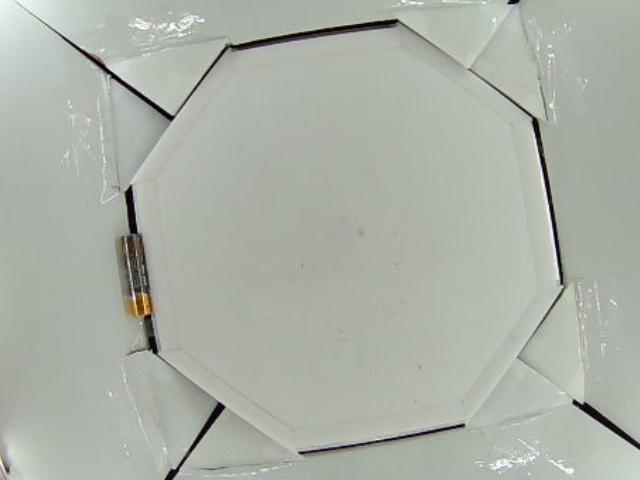Battery: (124, 233, 153, 318)
